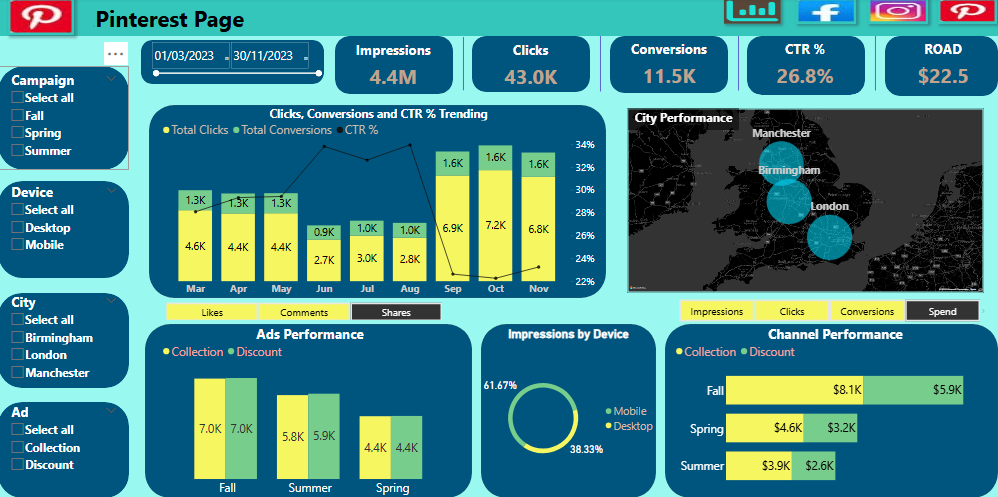

Layout of this report page (visuals, bound fields, positions):
{"tool":"powerbi","page":{"name":"Pinterest","canvas":[4000,2000],"ordinal":3},"visuals":[{"type":"shape","box":[0,0,4000,152],"z":0},{"type":"textbox","box":[304,16,748,140],"z":1000},{"type":"shape","box":[1348,152,472,232],"z":2000},{"type":"shape","box":[2996,152,472,236],"z":3000},{"type":"shape","box":[3548,152,452,240],"z":4000},{"type":"card","title":"Impressions","fields":{"Values":["_measures.Total Impressions"]},"box":[1360.1,169.5,441.5,205.1],"z":5000},{"type":"shape","box":[1896,152,472,224],"z":6000},{"type":"shape","box":[2448,152,472,228],"z":7000},{"type":"card","title":"Clicks","fields":{"Values":["_measures.Total Clicks"]},"box":[1913,169.5,437,205.1],"z":8000},{"type":"card","title":"Conversions","fields":{"Values":["_measures.Total Conversions"]},"box":[2470.5,165,423.6,205.1],"z":9000},{"type":"card","title":"CTR %","fields":{"Values":["_measures.CTR %"]},"box":[3032.3,165,392.4,209.6],"z":10000},{"type":"card","title":"ROAD","fields":{"Values":["_measures.ROAD"]},"box":[3621,165,321.1,205.1],"z":11000},{"type":"shape","box":[0,272,524,416],"z":12000},{"type":"slicer","fields":{"Values":["Data.Campaign"]},"box":[40,284,444,388],"z":13000},{"type":"shape","box":[0,732,524,388],"z":14000},{"type":"shape","box":[0,1180,524,380],"z":15000},{"type":"shape","box":[0,1616,524,384],"z":16000},{"type":"slicer","fields":{"Values":["Data.City"]},"box":[40,1172,444,388],"z":17000},{"type":"slicer","fields":{"Values":["Data.Ad"]},"box":[40,1612,444,388],"z":18000},{"type":"shape","box":[572,168,732,176],"z":19000},{"type":"slicer","fields":{"Values":["Calendar.Date"]},"box":[604,168,700,176],"z":20000},{"type":"shape","box":[604,428,1828,772],"z":21000},{"type":"lineStackedColumnComboChart","title":"Clicks, Conversions and CTR % Trending","fields":{"Category":["Calendar.Month_Name","Calendar.Day_Name"],"Y":["_measures.Total Clicks","_measures.Total Conversions"],"Y2":["_measures.CTR %"]},"box":[648,428,1748,772],"z":22000},{"type":"map","title":"City Performance","fields":{"Category":["Data.City"],"Size":["_measures.CPC"]},"box":[2516,440,1428,740],"z":23000},{"type":"shape","box":[2668,1304,1332,696],"z":24000},{"type":"shape","box":[588,1304,1308,696],"z":25000},{"type":"clusteredColumnChart","title":"Ads Performance","fields":{"Y":["_measures.Total Shares"],"Category":["Data.Campaign"],"Series":["Data.Ad"]},"box":[648,1304,1200,696],"z":26000},{"type":"shape","box":[1932,1304,700,696],"z":27000},{"type":"donutChart","fields":{"Category":["Data.Device"],"Y":["_measures.Total Impressions"]},"box":[1930.9,1315.5,700.1,673.4],"z":28000},{"type":"slicer","fields":{"Values":["Data.Device"]},"box":[40.1,731.3,445.9,388],"z":29000},{"type":"shape","box":[1823.9,156.1,75.8,214],"z":30000},{"type":"shape","box":[2372.4,151.6,75.8,223],"z":31000},{"type":"shape","box":[2925.3,151.6,75.8,218.5],"z":32000},{"type":"shape","box":[3473.8,151.6,75.8,218.5],"z":33000},{"type":"image","box":[2903,0,227.4,102.6],"z":34000},{"type":"image","box":[3192.9,0,240.8,102.6],"z":35000},{"type":"image","box":[3478.3,0,240.8,102.6],"z":36000},{"type":"image","box":[3759.2,0,236.3,102.6],"z":37000},{"type":"image","box":[40,0,264,148],"z":38000},{"type":"slicer","fields":{"Values":["Parameter.Parameter"]},"box":[2700,1200,1296,100],"z":39000},{"type":"barChart","title":"Channel Performance","fields":{"Y":["_measures.Total Spend"],"Category":["Data.Campaign"],"Series":["Data.Ad"]},"box":[2700,1304,1300,696],"z":40000},{"type":"slicer","fields":{"Values":["Parameter.Parameter"]},"box":[648,1212,1152,76],"z":41000},{"type":"textbox","box":[2520,440,444,88],"z":42000}]}

Visuals, with their boxes in screenshot pixels (x1, y1, x2, y2), scaled from the page's 4000x2000 canvas onto the 998x497 screenshot:
shape: <box>0,0,997,38</box>
textbox: <box>76,4,262,39</box>
shape: <box>336,38,454,95</box>
shape: <box>748,38,865,96</box>
shape: <box>885,38,997,97</box>
"Impressions" card: <box>339,42,449,93</box>
shape: <box>473,38,591,93</box>
shape: <box>611,38,729,94</box>
"Clicks" card: <box>477,42,586,93</box>
"Conversions" card: <box>616,41,722,92</box>
"CTR %" card: <box>757,41,854,93</box>
"ROAD" card: <box>903,41,984,92</box>
shape: <box>0,68,131,171</box>
slicer - Data.Campaign: <box>10,71,121,167</box>
shape: <box>0,182,131,278</box>
shape: <box>0,293,131,388</box>
shape: <box>0,402,131,496</box>
slicer - Data.City: <box>10,291,121,388</box>
slicer - Data.Ad: <box>10,401,121,496</box>
shape: <box>143,42,325,85</box>
slicer - Calendar.Date: <box>151,42,325,85</box>
shape: <box>151,106,607,298</box>
"Clicks, Conversions and CTR % Trending" lineStackedColumnComboChart: <box>162,106,598,298</box>
"City Performance" map: <box>628,109,984,293</box>
shape: <box>666,324,997,496</box>
shape: <box>147,324,473,496</box>
"Ads Performance" clusteredColumnChart: <box>162,324,461,496</box>
shape: <box>482,324,657,496</box>
donutChart - Data.Device x _measures.Total Impressions: <box>482,327,656,494</box>
slicer - Data.Device: <box>10,182,121,278</box>
shape: <box>455,39,474,92</box>
shape: <box>592,38,611,93</box>
shape: <box>730,38,749,92</box>
shape: <box>867,38,886,92</box>
image: <box>724,0,781,25</box>
image: <box>797,0,857,25</box>
image: <box>868,0,928,25</box>
image: <box>938,0,997,25</box>
image: <box>10,0,76,37</box>
slicer - Parameter.Parameter: <box>674,298,997,323</box>
"Channel Performance" barChart: <box>674,324,997,496</box>
slicer - Parameter.Parameter: <box>162,301,449,320</box>
textbox: <box>629,109,740,131</box>
